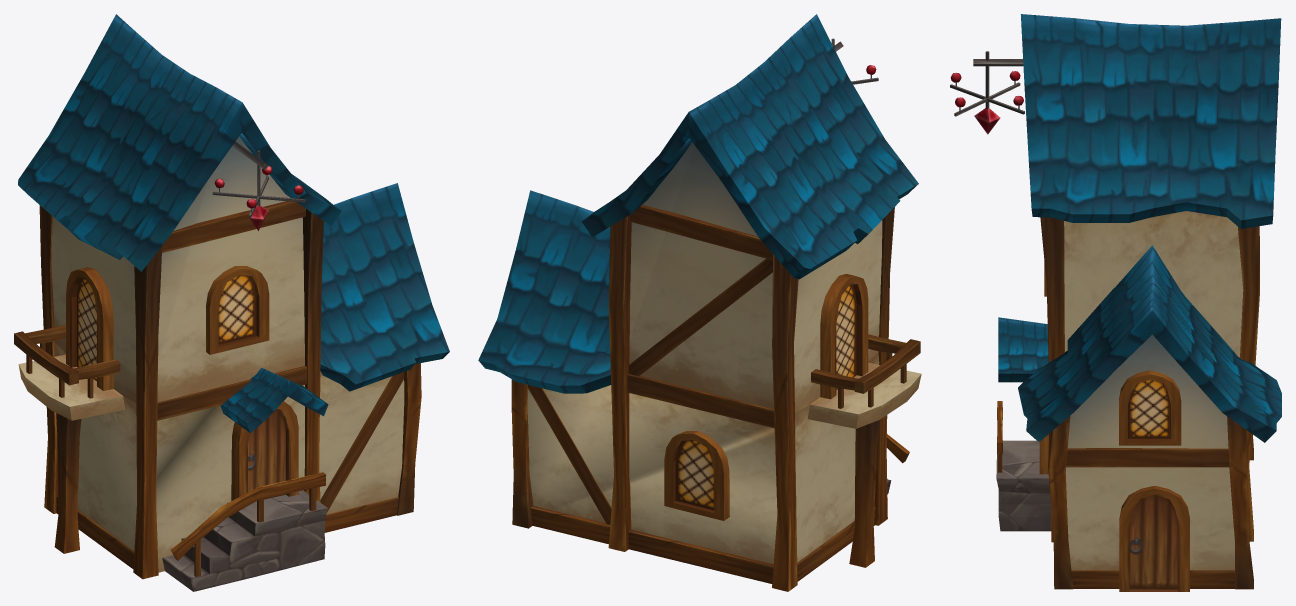
File: Fantasy_House_6.FBX
3 renders of one model, left to right at view 1: azimuth 30°, elevation 25°; view 2: azimuth 150°, elevation 25°; view 3: azimuth 270°, elevation 25°, orthographic. The views are drawn at different scales.
Parts seen in each view (by area): view 1: Fantasy_House_6; view 2: Fantasy_House_6; view 3: Fantasy_House_6.
Boxes of the visible parts, <box> form: Fantasy_House_6: <box>14,14,449,591</box>; Fantasy_House_6: <box>478,14,921,591</box>; Fantasy_House_6: <box>950,14,1281,591</box>.
Size of the model in its own units: 7.41 by 9.14 by 5.71.
